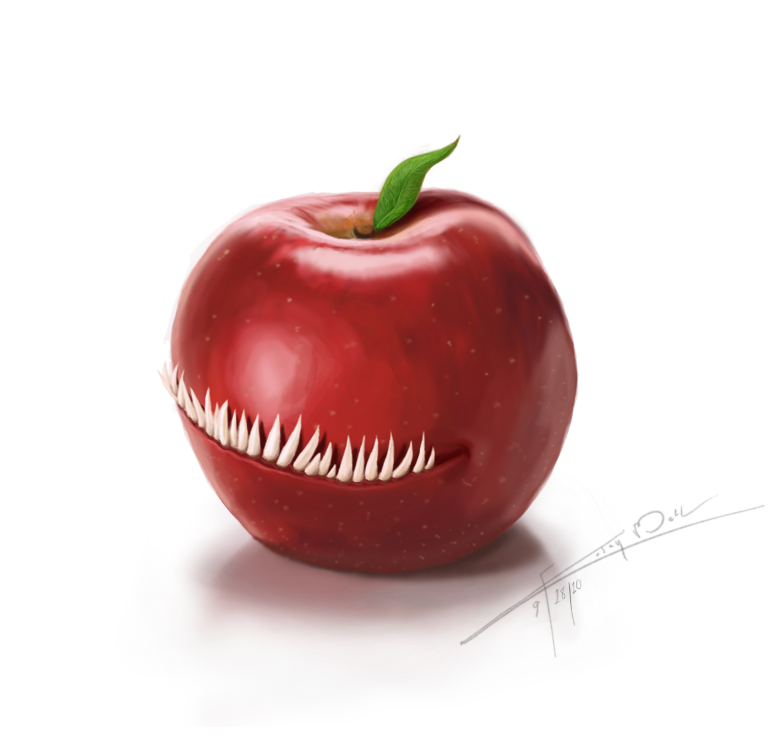apple: (155, 131, 589, 580)
